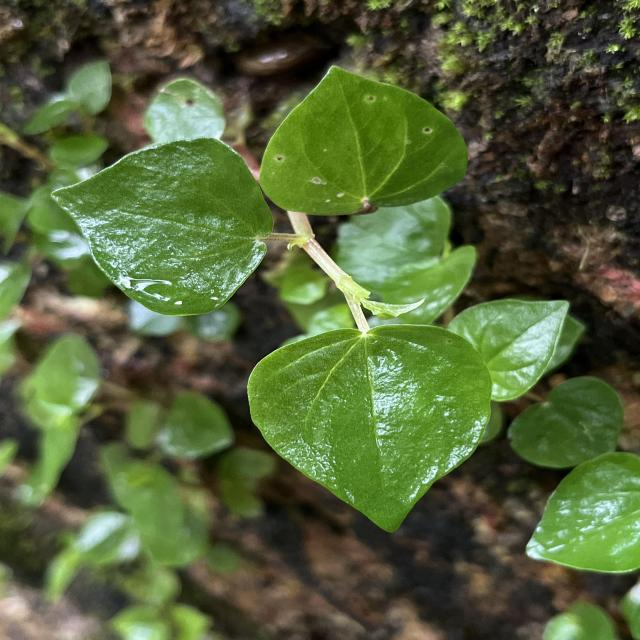Peperomia pellucida: (244, 320, 496, 536), (45, 133, 278, 318), (256, 62, 473, 222)
